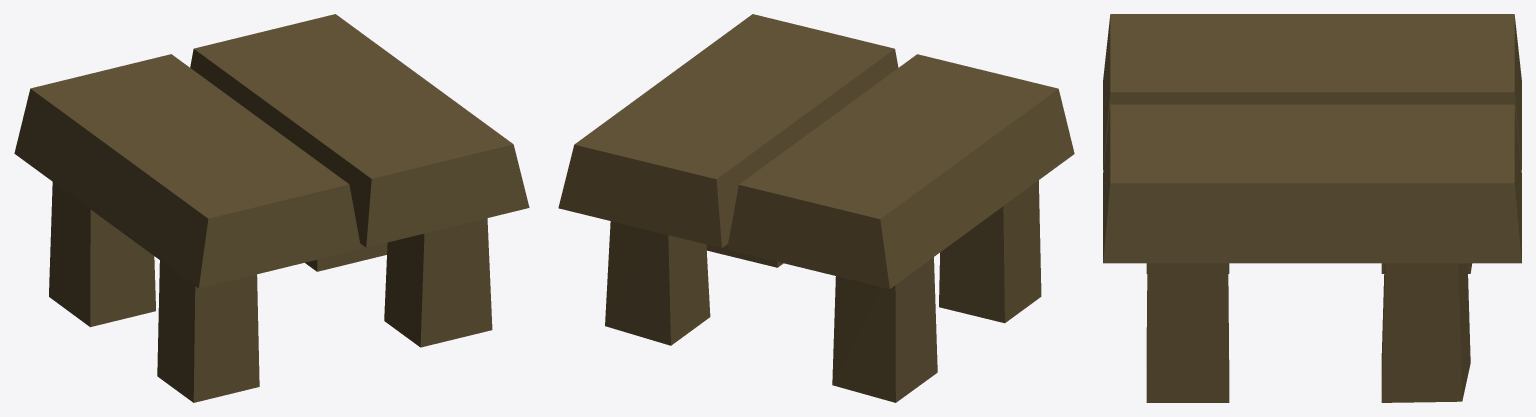
Rendered from Chair 02.FBX.
3 renders of one model, left to right at view 1: azimuth 30°, elevation 25°; view 2: azimuth 150°, elevation 25°; view 3: azimuth 270°, elevation 25°, orthographic. The views are drawn at different scales.
Parts seen in each view (by area): view 1: Chair 02; view 2: Chair 02; view 3: Chair 02.
Boxes of the visible parts, box(x1,y1,x2,y2) form: Chair 02: box(14, 14, 529, 402); Chair 02: box(558, 14, 1074, 402); Chair 02: box(1103, 14, 1521, 402).
Bounding box in the file's own units: 75.08 × 42.54 × 72.47.
